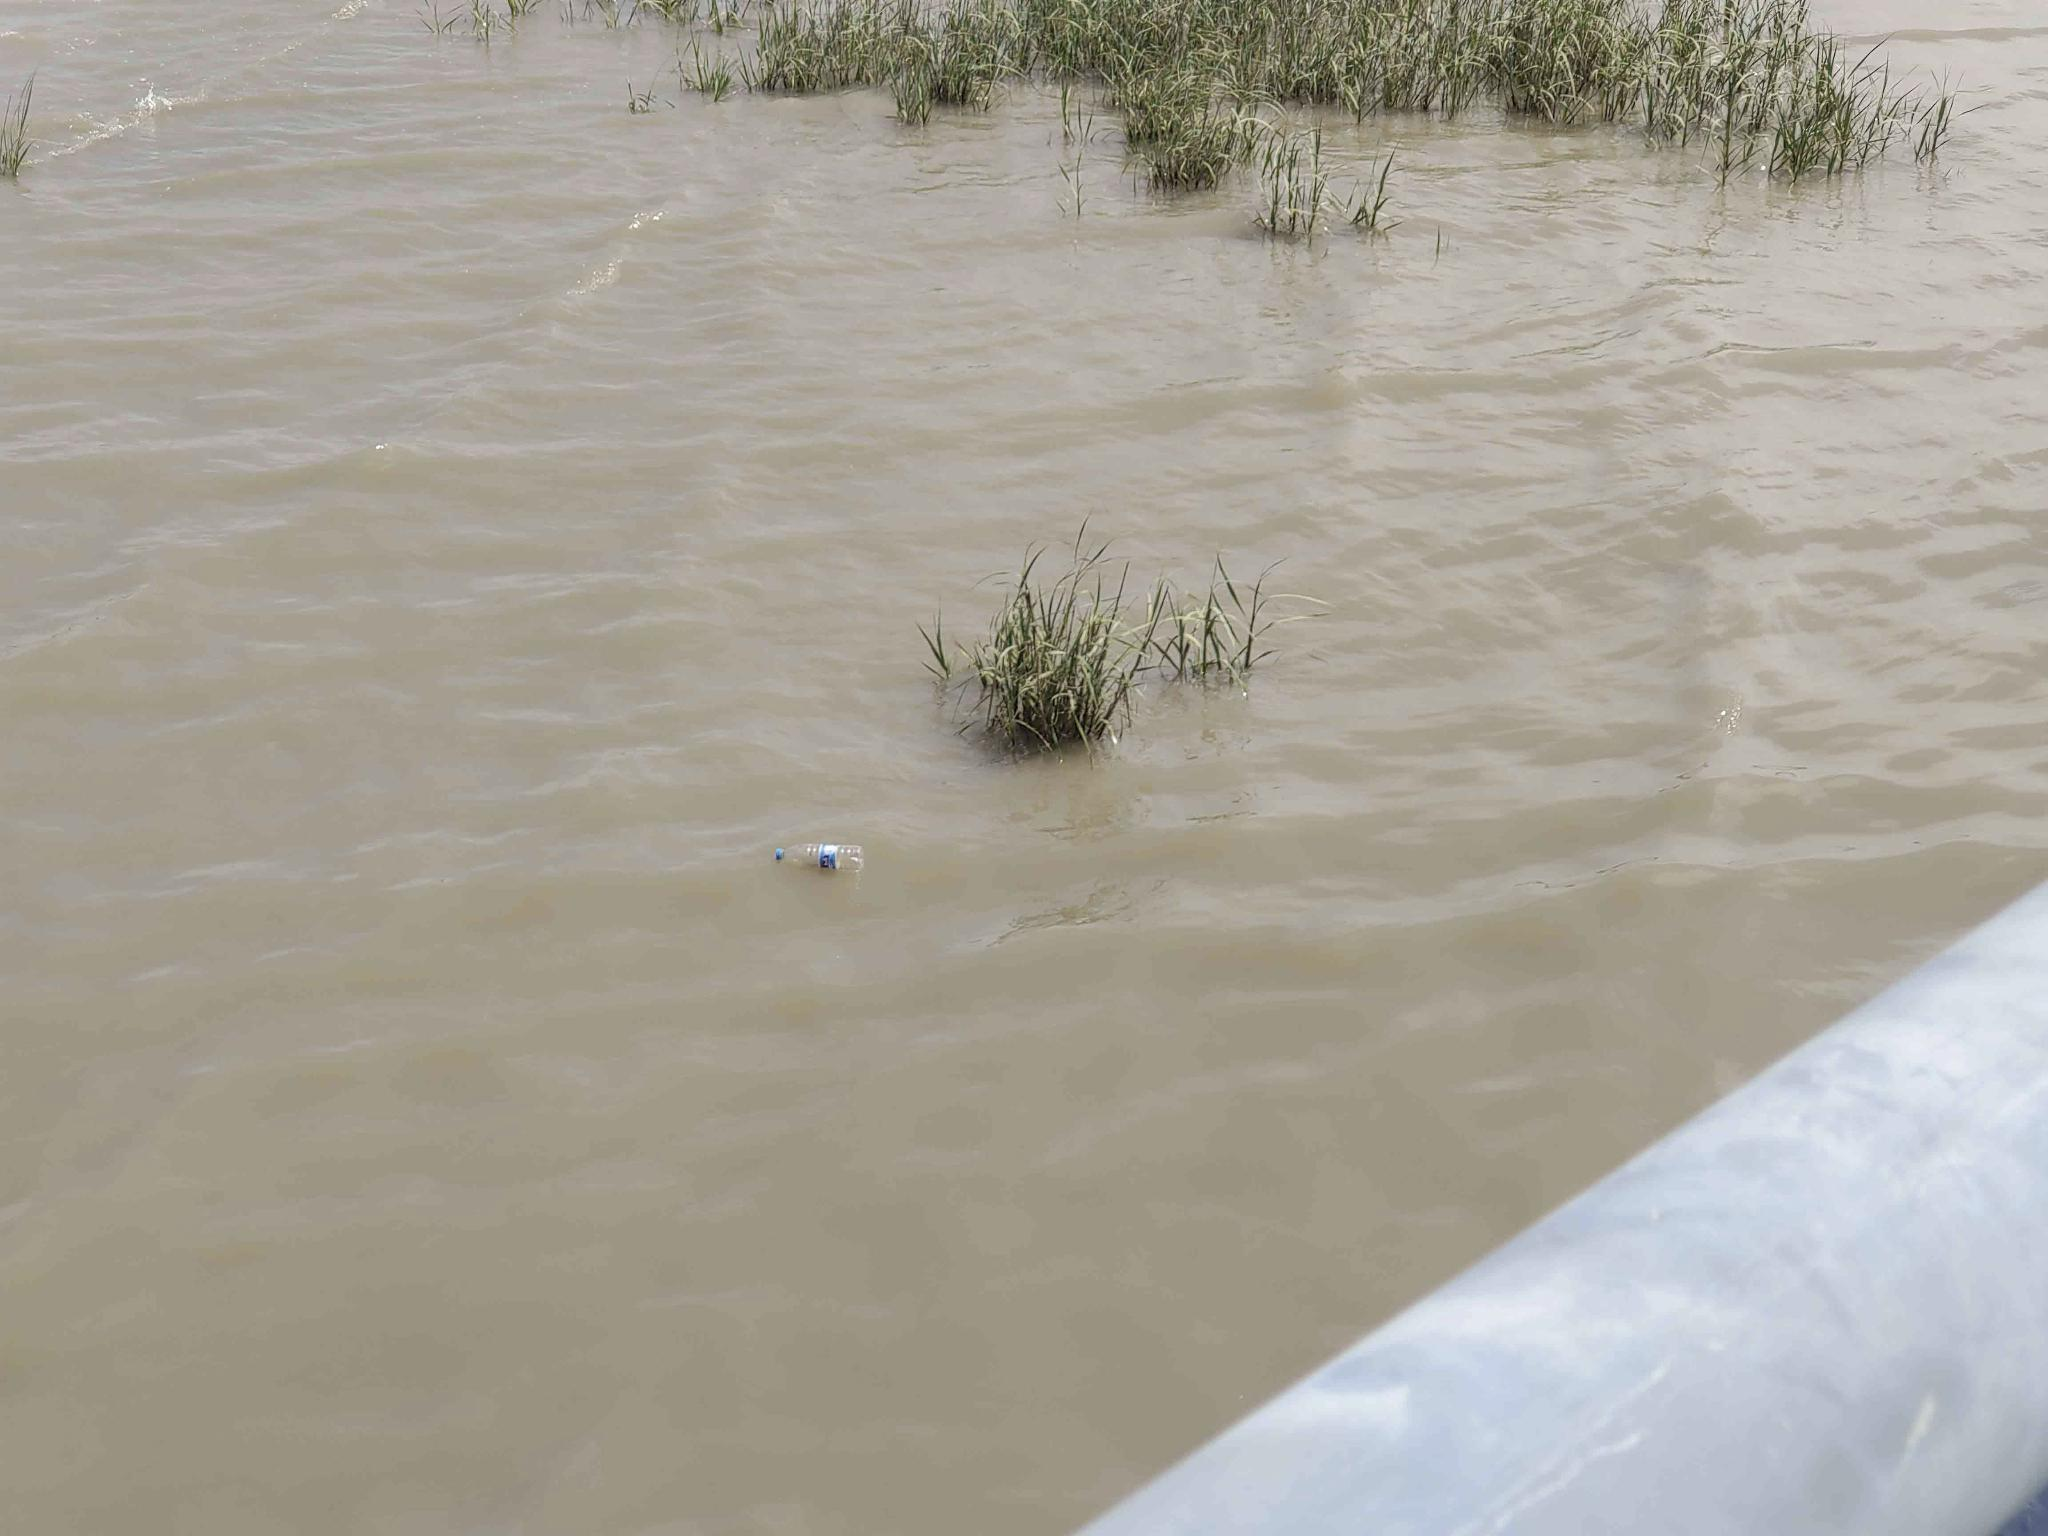Plastic: (771, 842, 864, 876)
